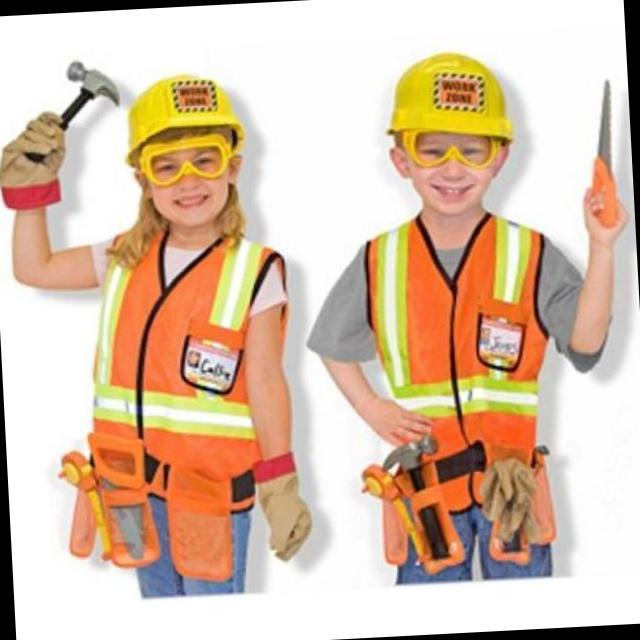hard_hat: (382, 50, 516, 154), (119, 70, 247, 168)
safety_vest: (79, 223, 302, 516), (364, 210, 560, 515)
vehicle: (291, 36, 640, 587), (0, 51, 318, 612)
